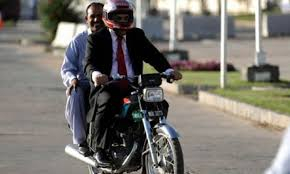helmet: (103, 1, 138, 36)
